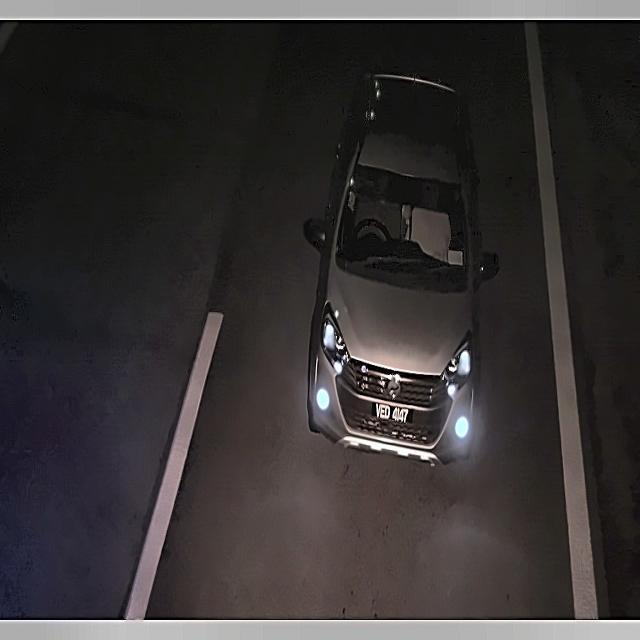car: (367, 393, 416, 431)
